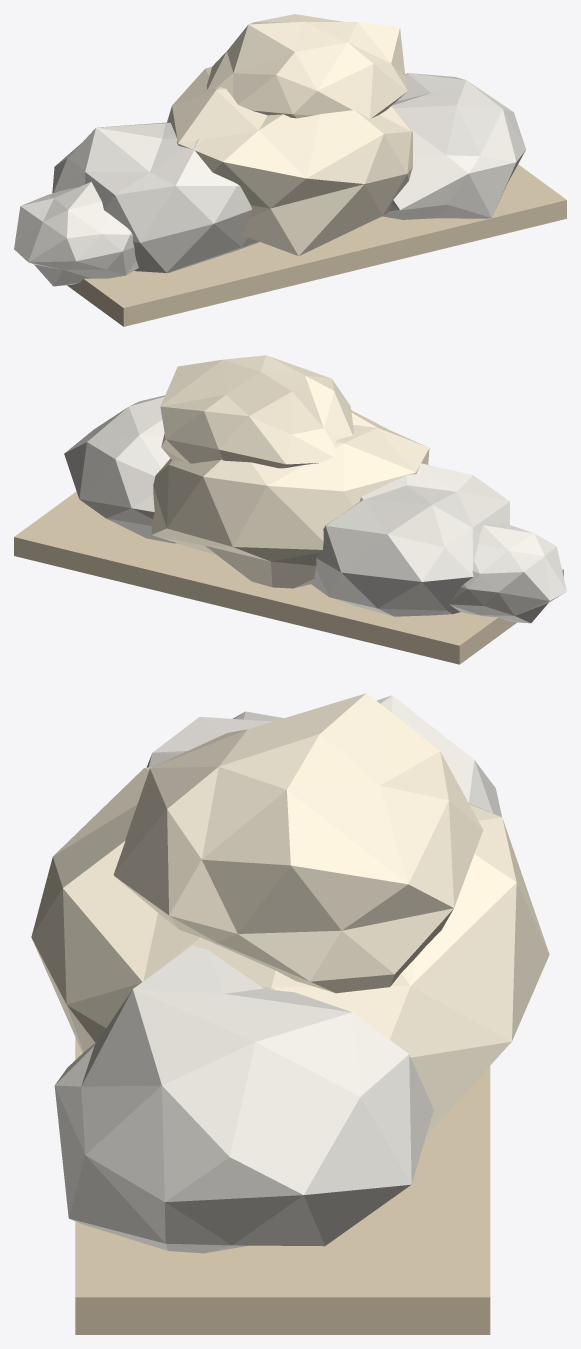
The model's file is cloud_b.glb.
The picture shows the model from 3 angles, top to bottom: view 1: azimuth 30°, elevation 25°; view 2: azimuth 150°, elevation 25°; view 3: azimuth 270°, elevation 25°; orthographic projection. The views are drawn at different scales.
Parts seen in each view (by area): view 1: cloud; view 2: cloud; view 3: cloud.
Part boxes in pixels (x1=…): cloud: x1=14, y1=14, x2=566, y2=326; cloud: x1=14, y1=355, x2=566, y2=664; cloud: x1=31, y1=693, x2=549, y2=1334.
Size of the model in its own units: 8.22 by 3.43 by 3.75.
